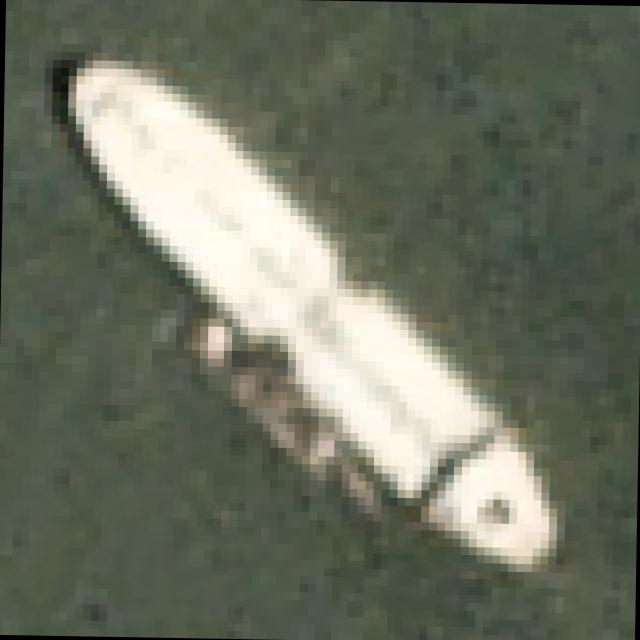ship: (34, 27, 582, 584)
